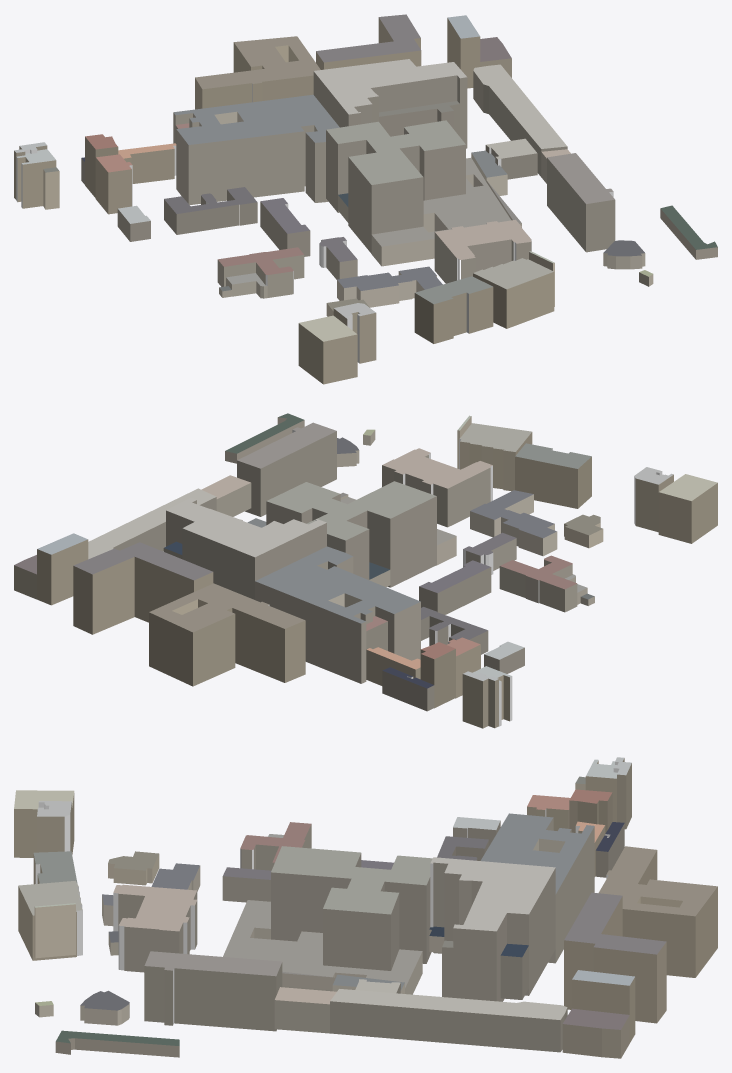
The picture shows the model from 3 angles, top to bottom: view 1: azimuth 30°, elevation 25°; view 2: azimuth 150°, elevation 25°; view 3: azimuth 270°, elevation 25°; orthographic projection. The views are drawn at different scales.
Parts seen in each view (by area): view 1: tuile; view 2: tuile; view 3: tuile.
Boxes of the visible parts, box(x1,y1,x2,y2) form: tuile: box(14, 14, 717, 384); tuile: box(14, 413, 717, 728); tuile: box(14, 757, 717, 1058).
Bounding box in the file's own units: 257 × 43.26 × 282.
